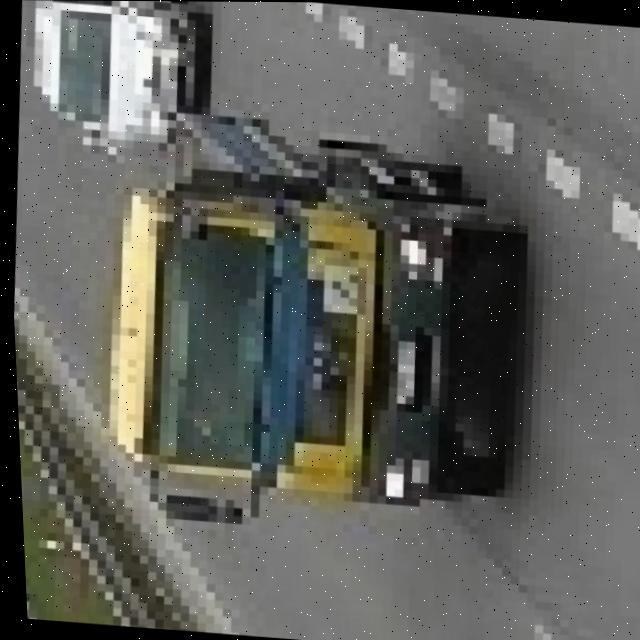truck: (70, 104, 526, 558)
